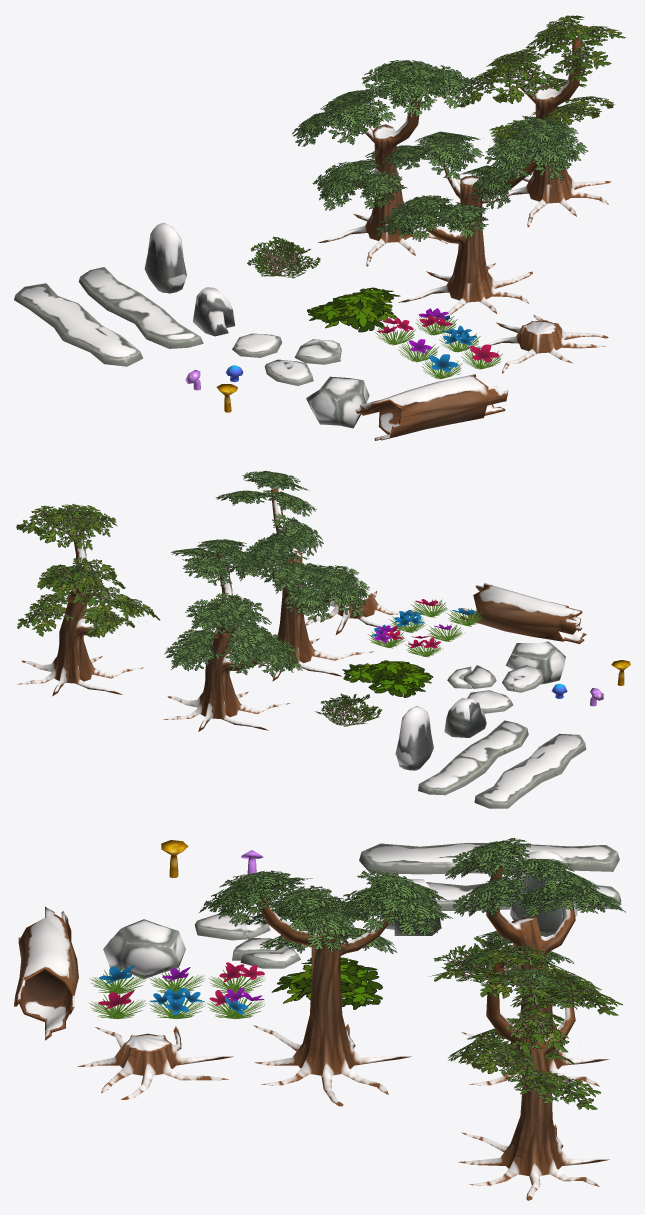
The model's file is bush01.fbx.
The picture shows the model from 3 angles, top to bottom: view 1: azimuth 30°, elevation 25°; view 2: azimuth 150°, elevation 25°; view 3: azimuth 270°, elevation 25°; orthographic projection. The views are drawn at different scales.
Parts seen in each view (by area): view 1: Circle, Circle_001, Circle_004, Circle_003, Cube_007, Cube_006, Plane, Cube_005, Circle_002, Cube, Plane_007, Cube_001 (+8 smaller); view 2: Circle_001, Circle_004, Circle, Circle_003, Cube_007, Cube_006, Plane, Cube, Cube_005, Plane_007, Cube_001, Circle_002 (+6 smaller); view 3: Circle, Circle_004, Circle_001, Circle_003, Cube_007, Circle_002, Cube_005, Plane, Cube, Cube_004, Cube_003, Cube_006 (+9 smaller).
Boxes of the visible parts, x1,y1,x2,y2 form: Circle: [375, 115, 588, 328]; Circle_001: [292, 60, 473, 266]; Circle_004: [458, 15, 625, 227]; Circle_003: [355, 374, 508, 440]; Cube_007: [14, 283, 143, 366]; Cube_006: [79, 267, 203, 348]; Plane: [307, 287, 400, 332]; Cube_005: [306, 376, 369, 428]; Circle_002: [469, 315, 608, 373]; Cube: [144, 222, 186, 293]; Plane_007: [247, 236, 320, 278]; Cube_001: [192, 287, 235, 336]; Circle_001: [163, 539, 302, 731]; Circle_004: [16, 503, 160, 696]; Circle: [215, 470, 373, 681]; Circle_003: [460, 583, 586, 644]; Cube_007: [474, 733, 586, 808]; Cube_006: [418, 720, 528, 795]; Plane: [342, 660, 433, 697]; Cube: [395, 706, 433, 770]; Cube_005: [505, 641, 565, 684]; Plane_007: [315, 693, 382, 726]; Cube_001: [444, 698, 486, 737]; Circle_002: [305, 590, 425, 634]; Circle: [199, 869, 452, 1106]; Circle_004: [429, 945, 622, 1200]; Circle_001: [445, 838, 625, 1086]; Circle_003: [14, 907, 78, 1040]; Cube_007: [359, 842, 619, 874]; Circle_002: [77, 1026, 233, 1099]; Cube_005: [103, 919, 185, 979]; Plane: [271, 957, 382, 1009]; Cube: [510, 850, 577, 936]; Cube_004: [232, 938, 300, 968]; Cube_003: [195, 913, 270, 940]; Cube_006: [371, 882, 621, 911].
Bounding box in the file's own units: 28.87 × 9.69 × 20.78.
